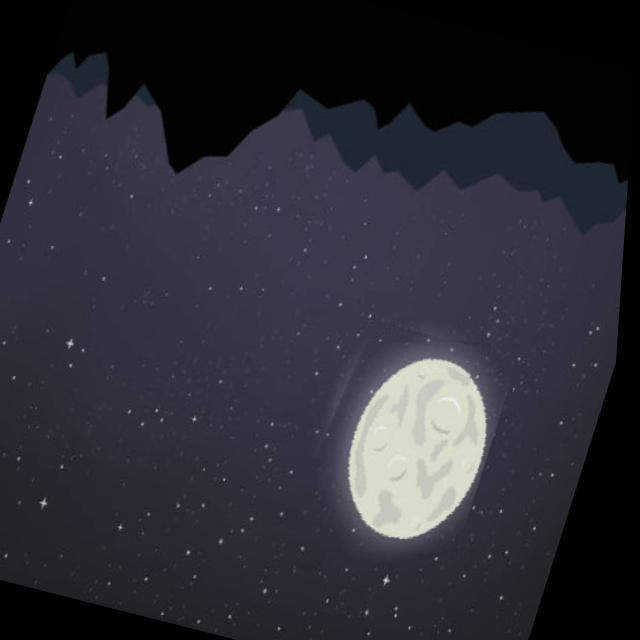moon: (288, 314, 526, 572)
